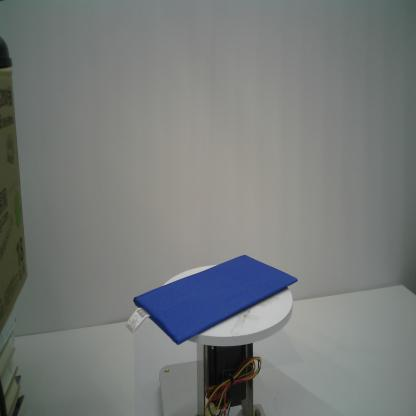Stationery: (122, 253, 298, 346)
